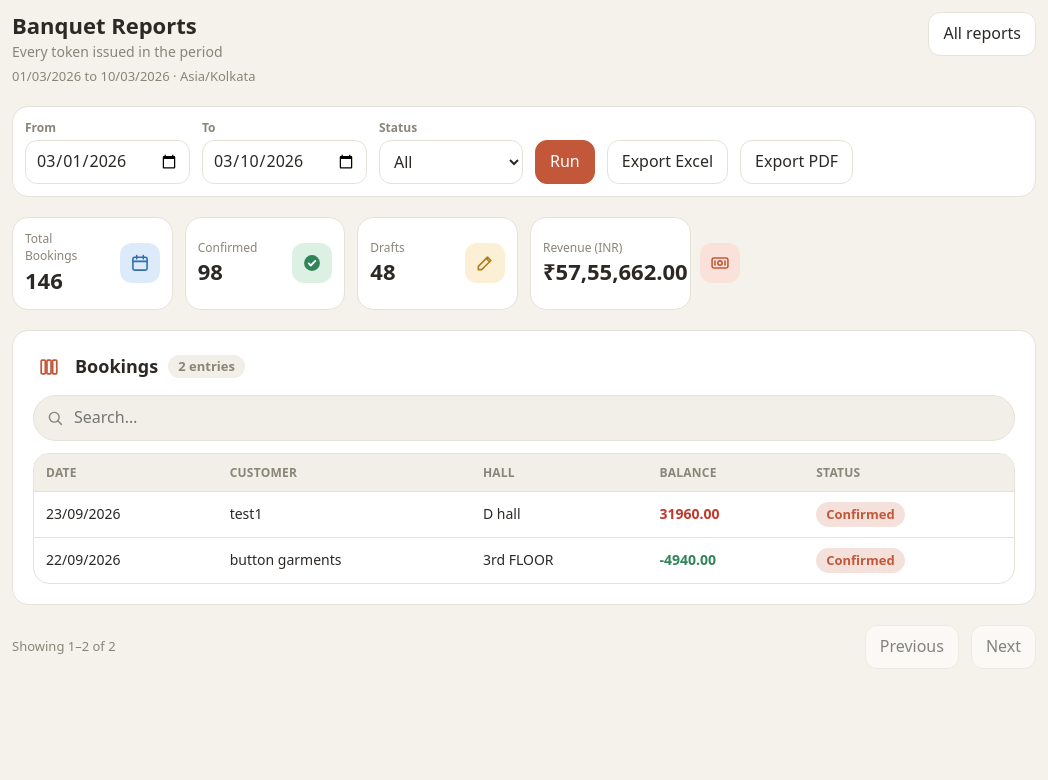
Test: banquet.bookings report panel › RF-48. titles the table "Bookings" and its search box matches the hall too
This screenshot has width=1048, height=780.
Expected: the table is shown, x1=34 y1=454 x2=1014 y2=583
Expected: the heading "Bookings" is shown, x1=75 y1=356 x2=158 y2=377
Type "FLOOR" into the search field with placeholder "Search…" at (537, 418), box x1=72 y1=396 x2=1002 y2=440
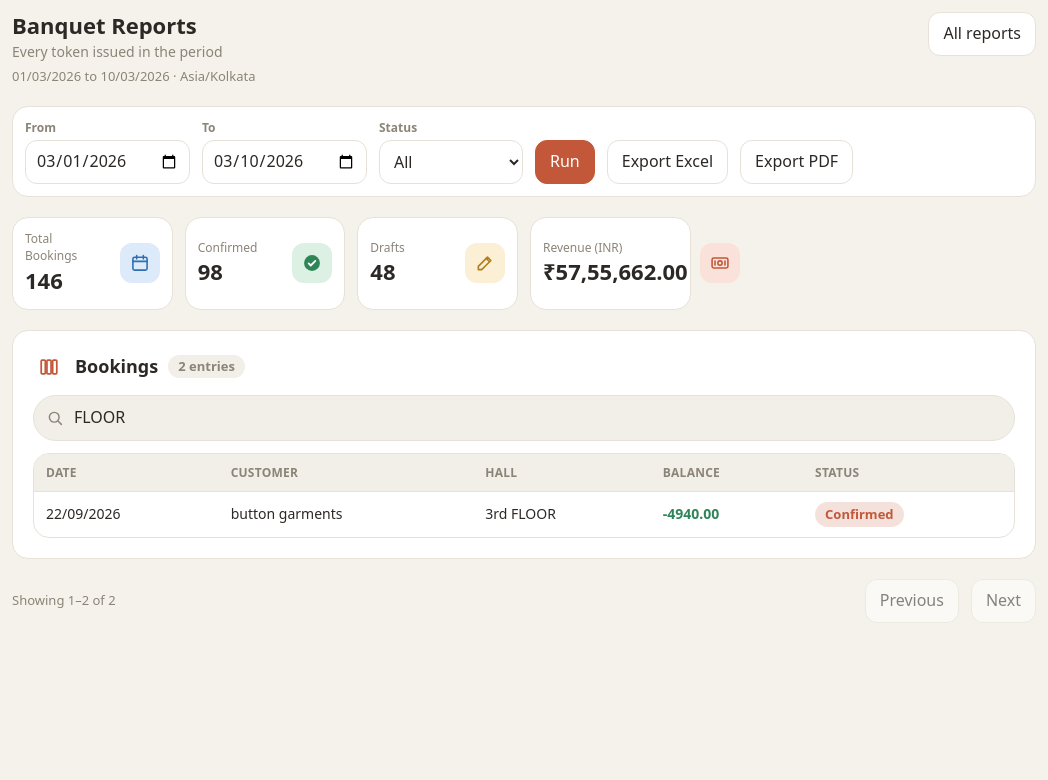
Expected: the number of rows is 2, x1=34 y1=454 x2=1014 y2=492; x1=34 y1=492 x2=1014 y2=537
Expected: the text "button garments" is shown, x1=219 y1=492 x2=473 y2=537
Expected: the text "test1" is gone
